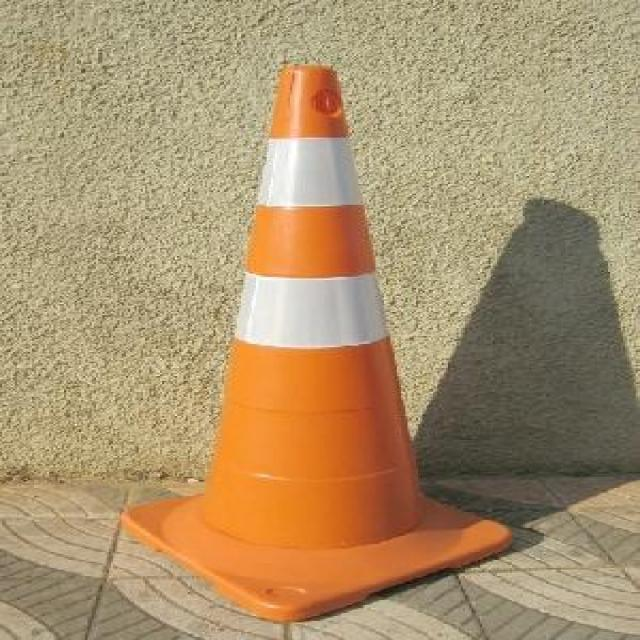cone: (101, 53, 508, 626)
